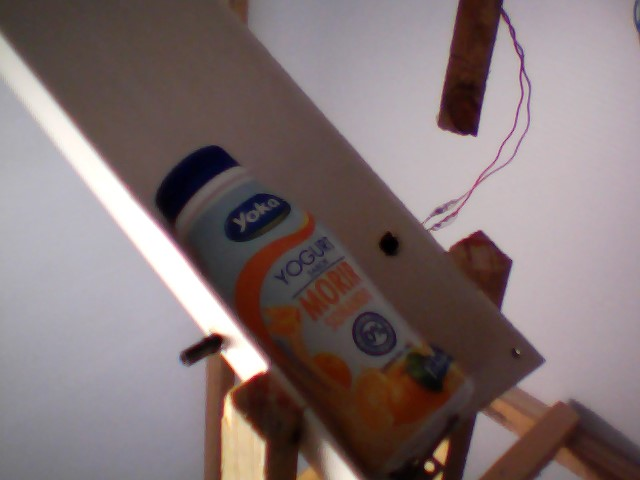plastico: (151, 143, 478, 476)
